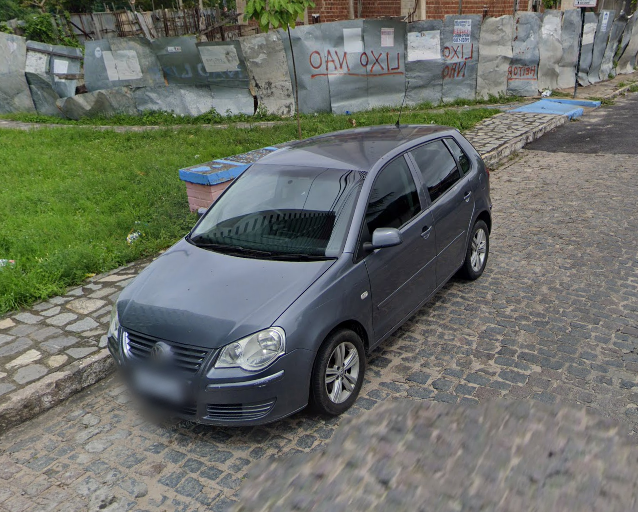car: (104, 80, 494, 433)
